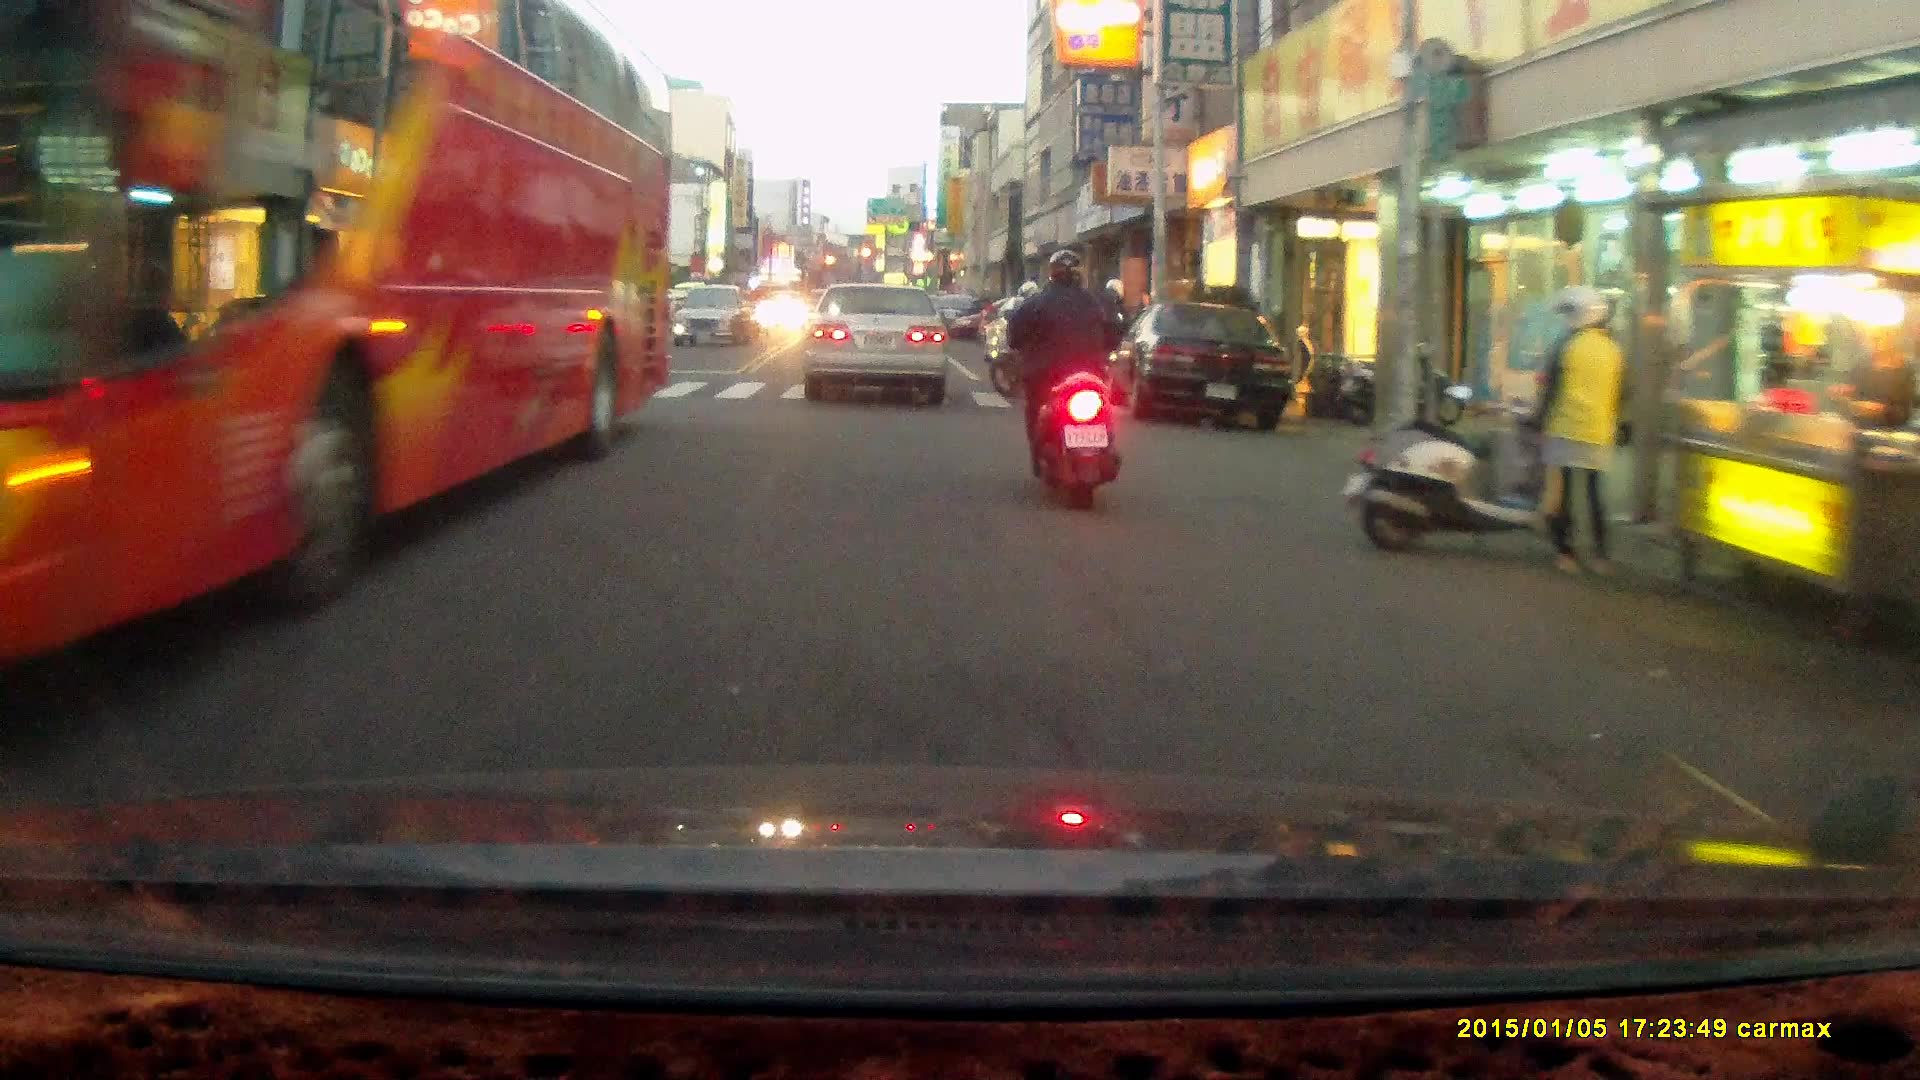pedestrian: (1535, 281, 1632, 584)
rider: (998, 247, 1123, 514)
vehicle: (1, 16, 685, 644), (1105, 301, 1306, 431), (805, 281, 952, 404), (674, 284, 757, 351)
